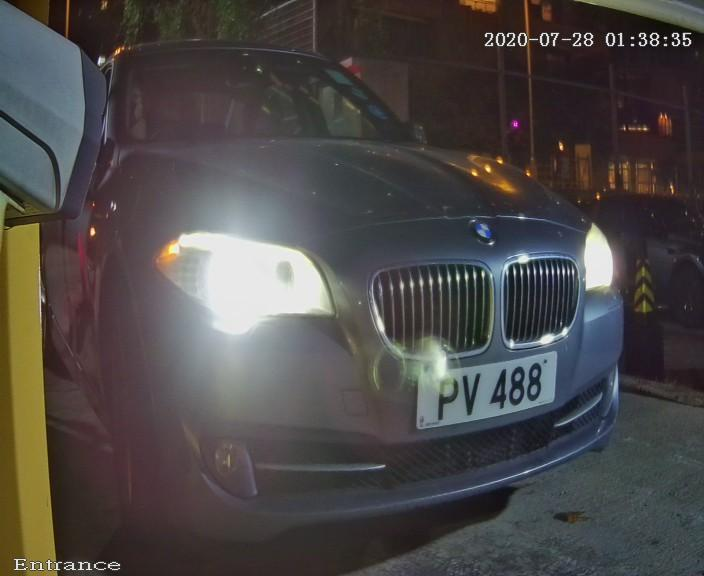privatecar: (79, 6, 642, 559)
